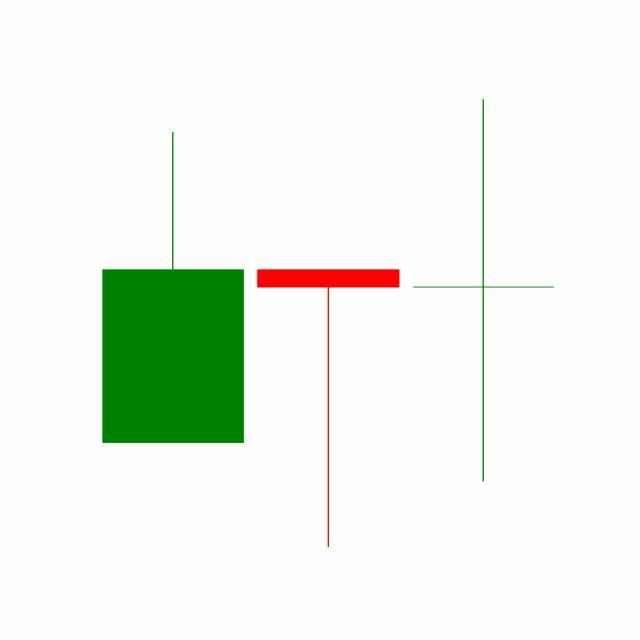Dragonfly Doji: (250, 268, 407, 552)
